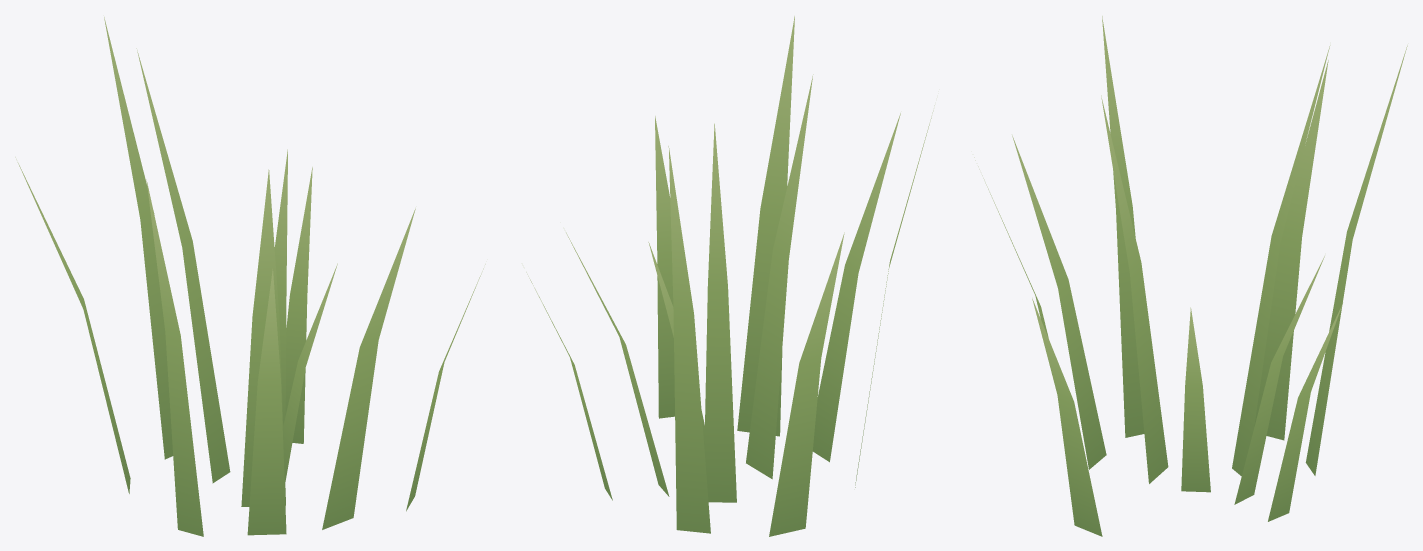
The model's file is pasto.glb.
3 renders of one model, left to right at view 1: azimuth 30°, elevation 25°; view 2: azimuth 150°, elevation 25°; view 3: azimuth 270°, elevation 25°, orthographic. The views are drawn at different scales.
Visible parts, largest first — view 1: pasto2; view 2: pasto2; view 3: pasto2.
Boxes of the visible parts, x1,y1,x2,y2 form: pasto2: (15, 17, 485, 536); pasto2: (526, 16, 934, 536); pasto2: (974, 16, 1407, 536).
Bounding box in the file's own units: 0.486 × 0.582 × 0.5565.
